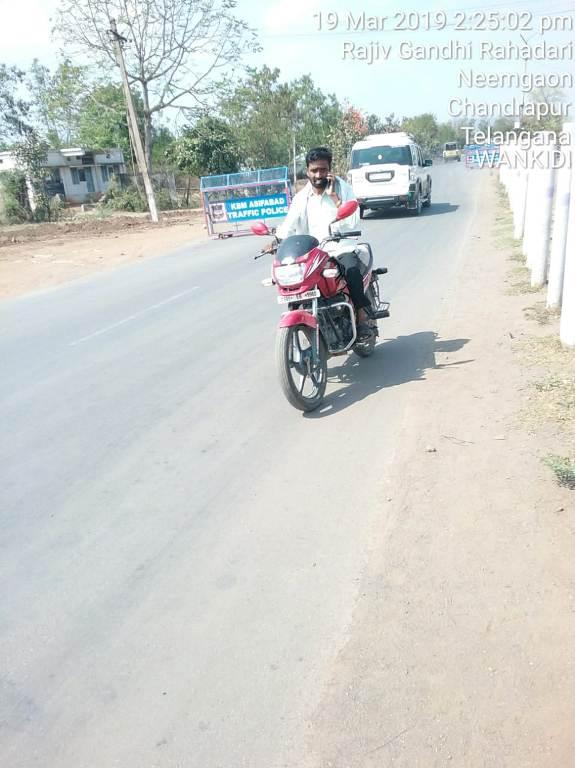plate: (273, 288, 326, 306)
